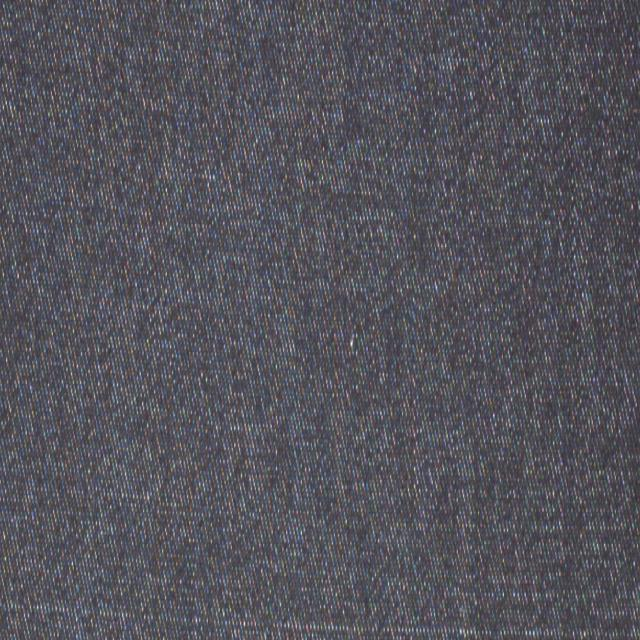Line: (0, 593, 638, 640)
